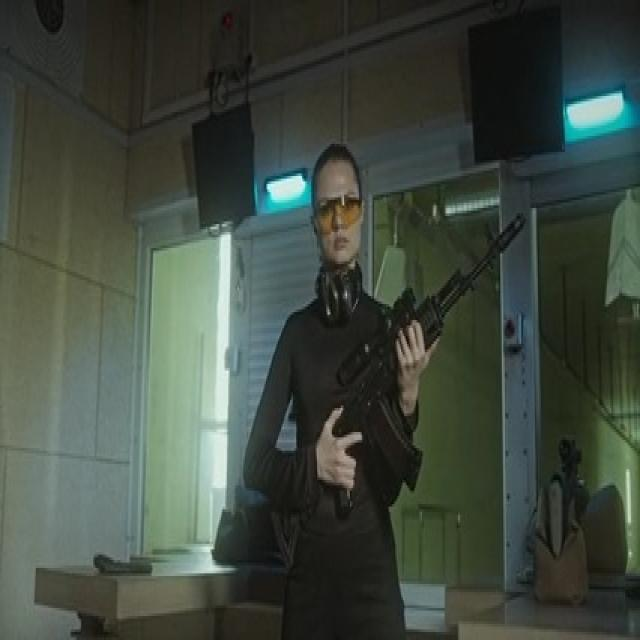Gun_Holder: (282, 206, 554, 512)
Person: (246, 146, 428, 640)
